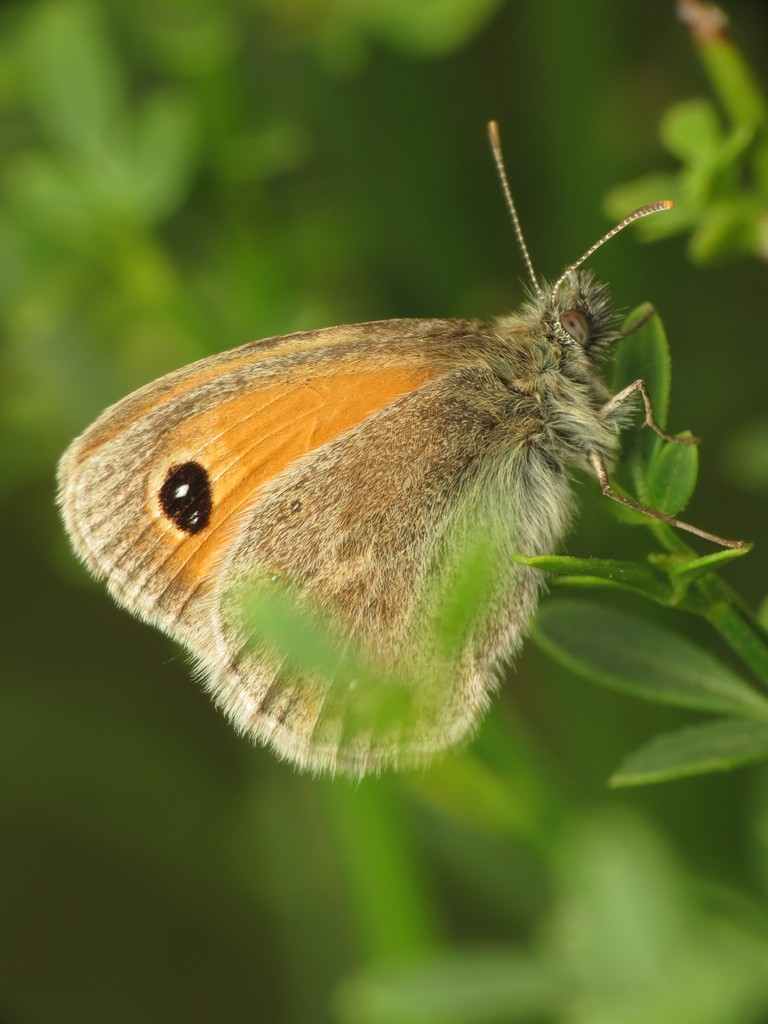Butterfly: (58, 283, 629, 770)
